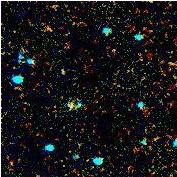star: (51, 90, 81, 120)
